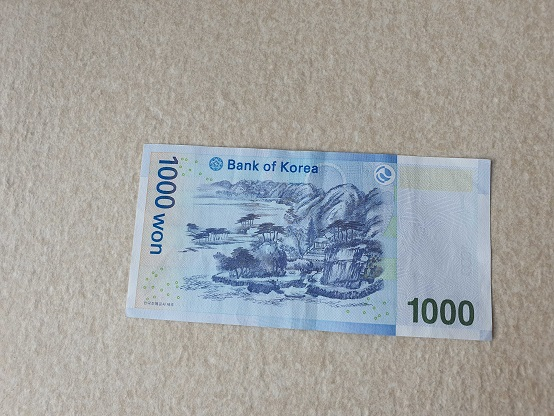1000won: (125, 139, 491, 340)
